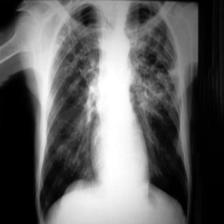tuberculosis: (37, 0, 190, 221)
